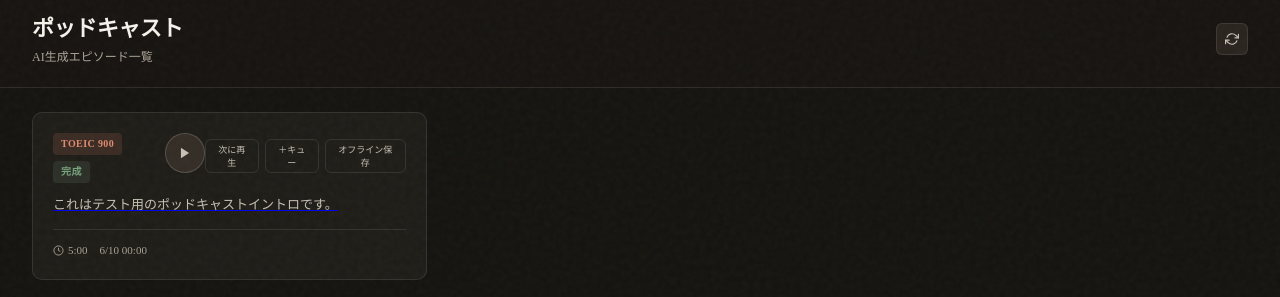
Test: PodcastPage — offline download (issue #167) › 保存に成功すると offline.save(id) を呼び、そのカードを「保存済み」にする (verifies: CI-P4-30)
Click the button "オフライン保存" at {"x": 365, "y": 156}, box [325, 139, 406, 173]
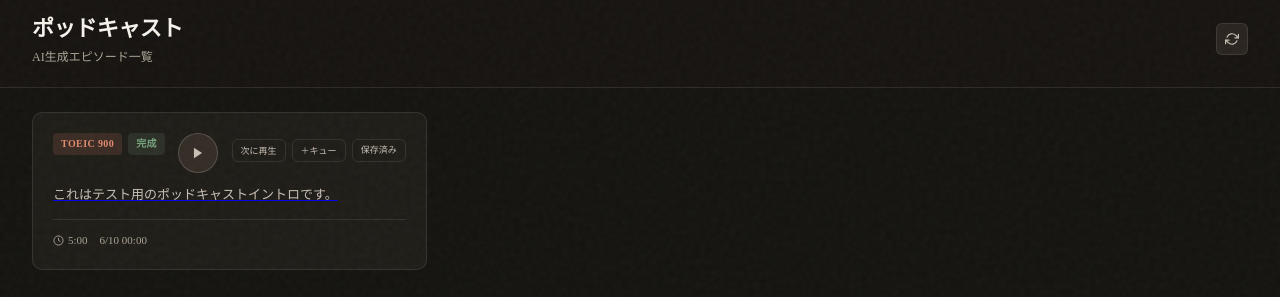
Now the button "保存済み" is shown, box [352, 139, 406, 162]
